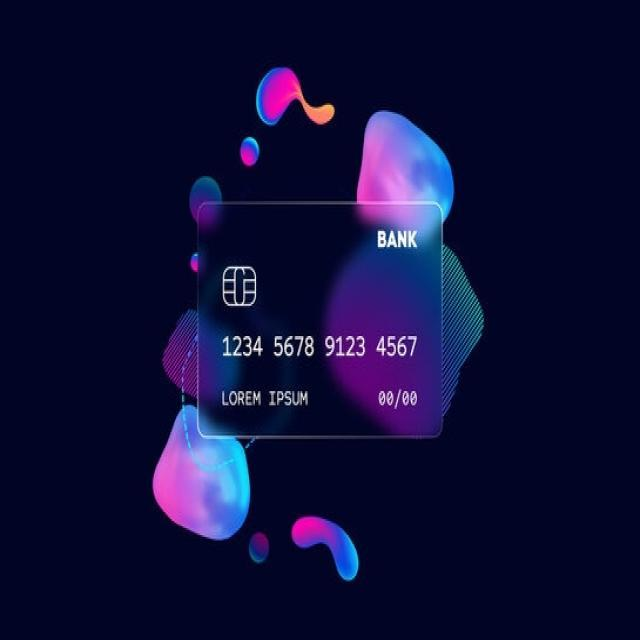payment_card: (194, 198, 443, 439)
